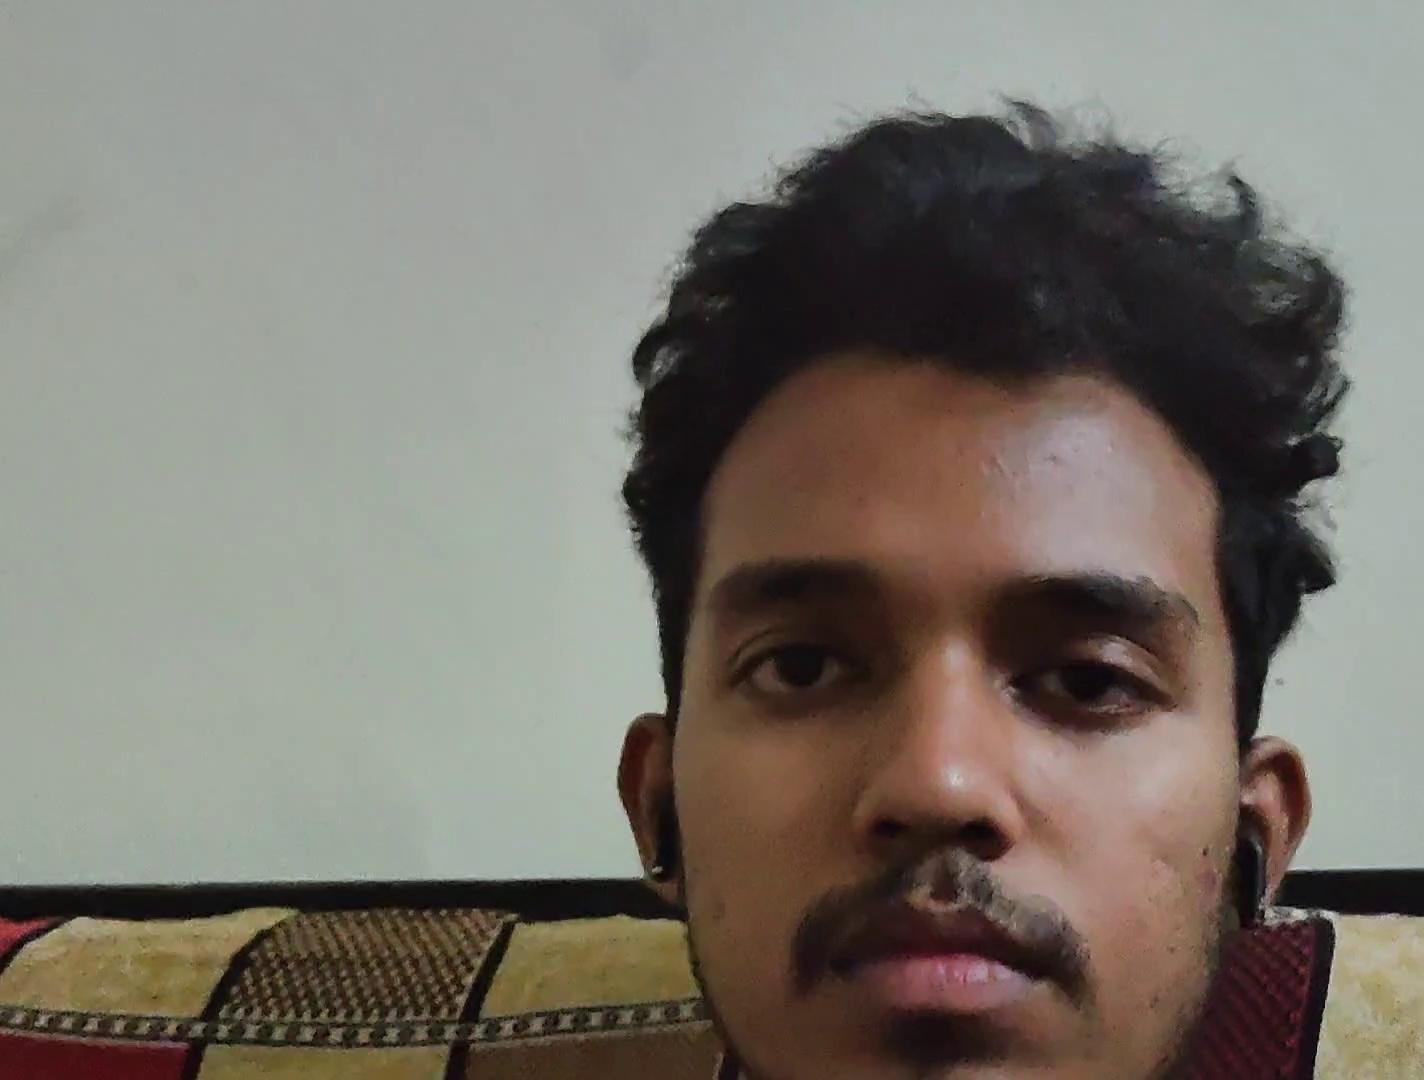face: (670, 359, 1243, 1078)
